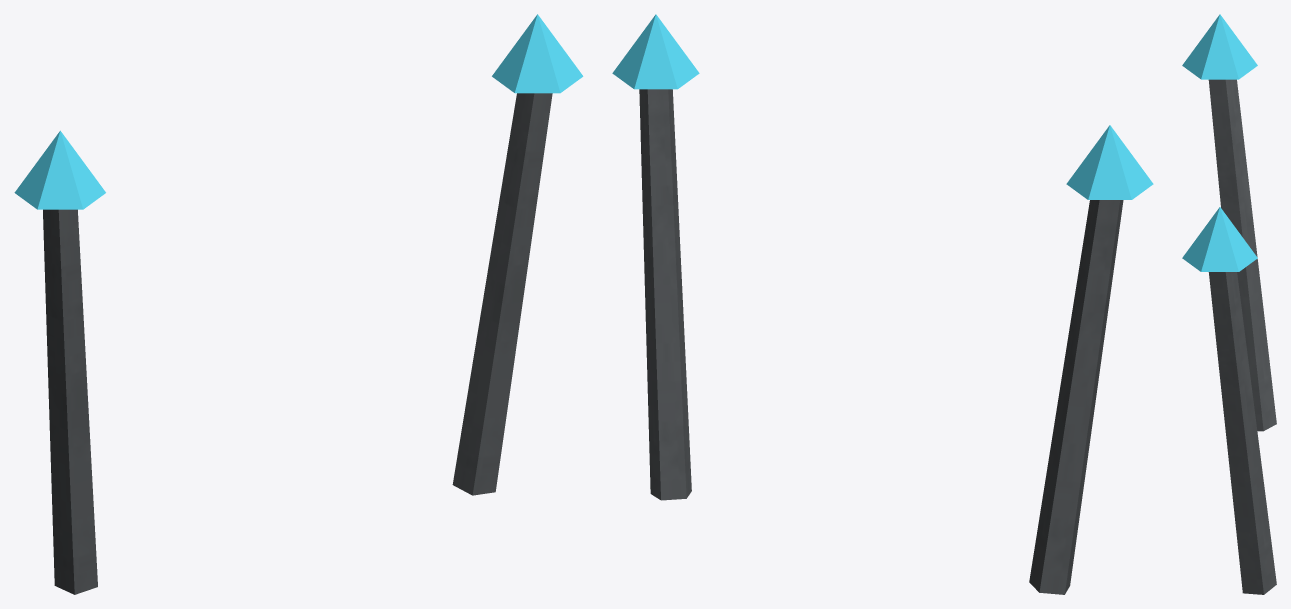
File: acc_antenna.glb
3 views of the same model, side by side, from view 1: azimuth 30°, elevation 25°; view 2: azimuth 150°, elevation 25°; view 3: azimuth 270°, elevation 25° (orthographic). The views are drawn at different scales.
Visible parts, largest first — view 1: acc_antenna; view 2: acc_antenna; view 3: acc_antenna.
Boxes of the visible parts, x1=… form: acc_antenna: x1=14, y1=14, x2=583, y2=594; acc_antenna: x1=612, y1=14, x2=1153, y2=594; acc_antenna: x1=1182, y1=14, x2=1276, y2=594.
Size of the model in its own units: 0.2746 by 0.2314 by 0.05.
2 materials, 2 textured.
